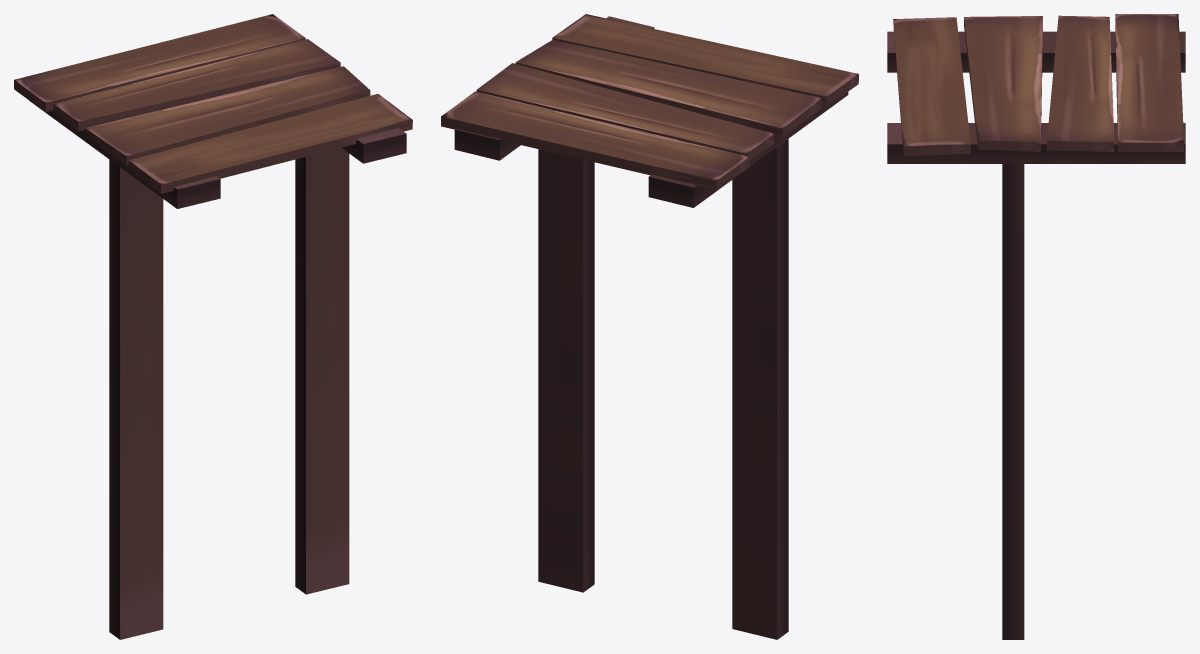
File: bridge_1.gltf
3 views of the same model, side by side, from view 1: azimuth 30°, elevation 25°; view 2: azimuth 150°, elevation 25°; view 3: azimuth 270°, elevation 25° (orthographic). The views are drawn at different scales.
Parts seen in each view (by area): view 1: Bridge1Mesh; view 2: Bridge1Mesh; view 3: Bridge1Mesh.
Part boxes in pixels (x1,y1,x2,y2): Bridge1Mesh: [14, 14, 412, 639]; Bridge1Mesh: [441, 14, 858, 639]; Bridge1Mesh: [887, 14, 1185, 639].
Size of what is drawn, in the model's own units: 1.02 by 1.87 by 1.
1 material, 1 textured.
